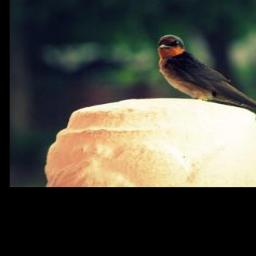Swallow: (156, 32, 256, 118)
